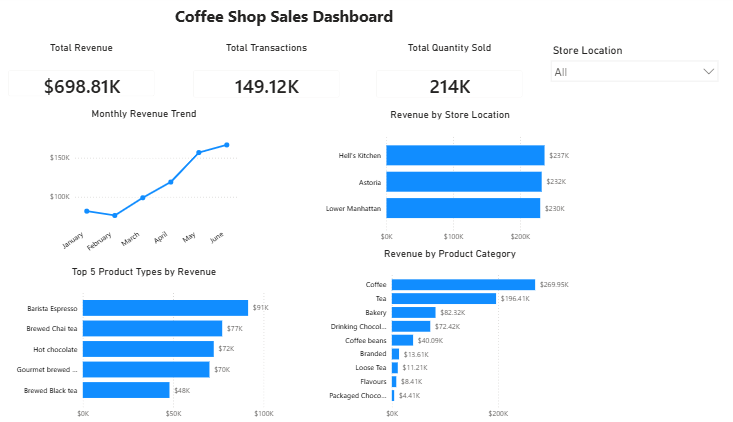

What the dashboard file says about the page in this screenshot:
{"tool":"powerbi","page":{"name":"Page 1","canvas":[1280,720],"ordinal":0},"visuals":[{"type":"cardVisual","title":"Total Revenue","fields":{"Data":["Sum(Coffee Shop Sales.Revenue)"]},"box":[0,77.3,280.5,110.9],"z":0},{"type":"cardVisual","title":"Total Transactions","fields":{"Data":["CountNonNull(Coffee Shop Sales.transaction_qty)"]},"box":[310.8,77.3,280.5,112.5],"z":1000},{"type":"cardVisual","title":"Total Quantity Sold","fields":{"Data":["Sum(Coffee Shop Sales.transaction_qty)"]},"box":[618.2,77.3,280.5,112.5],"z":2000},{"type":"lineChart","title":"Monthly Revenue Trend","fields":{"Category":["Coffee Shop Sales.Month"],"Y":["Sum(Coffee Shop Sales.Revenue)"]},"box":[82.3,188.1,325.9,265.4],"z":3000},{"type":"clusteredBarChart","title":"Revenue by Store Location","fields":{"Category":["Coffee Shop Sales.store_location"],"Y":["Sum(Coffee Shop Sales.Revenue)"]},"box":[537.5,189.8,443.5,233.5],"z":4000},{"type":"clusteredBarChart","title":"Top 5 Product Types by Revenue","fields":{"Category":["Coffee Shop Sales.product_type"],"Y":["Sum(Coffee Shop Sales.Revenue)"]},"box":[13.4,453.5,463.6,267.1],"z":5000},{"type":"textbox","box":[0,0,960.8,79],"z":6000},{"type":"slicer","fields":{"Values":["Coffee Shop Sales.store_location"]},"box":[918.8,77.3,300.7,90.7],"z":7000},{"type":"clusteredBarChart","title":"Revenue by Product Category","fields":{"Category":["Coffee Shop Sales.product_category"],"Y":["Sum(Coffee Shop Sales.Revenue)"]},"box":[537.5,423.3,443.5,297.3],"z":8000}]}

Visuals, with their boxes in screenshot pixels (x1, y1, x2, y2), scaled from the page's 1280x720 canvas onto the 733x422 screenshot:
"Total Revenue" cardVisual: locate(0, 45, 161, 110)
"Total Transactions" cardVisual: locate(178, 45, 339, 111)
"Total Quantity Sold" cardVisual: locate(354, 45, 515, 111)
"Monthly Revenue Trend" lineChart: locate(47, 110, 234, 266)
"Revenue by Store Location" clusteredBarChart: locate(308, 111, 562, 248)
"Top 5 Product Types by Revenue" clusteredBarChart: locate(8, 266, 273, 421)
textbox: locate(0, 0, 550, 46)
slicer - Coffee Shop Sales.store_location: locate(526, 45, 698, 98)
"Revenue by Product Category" clusteredBarChart: locate(308, 248, 562, 421)
